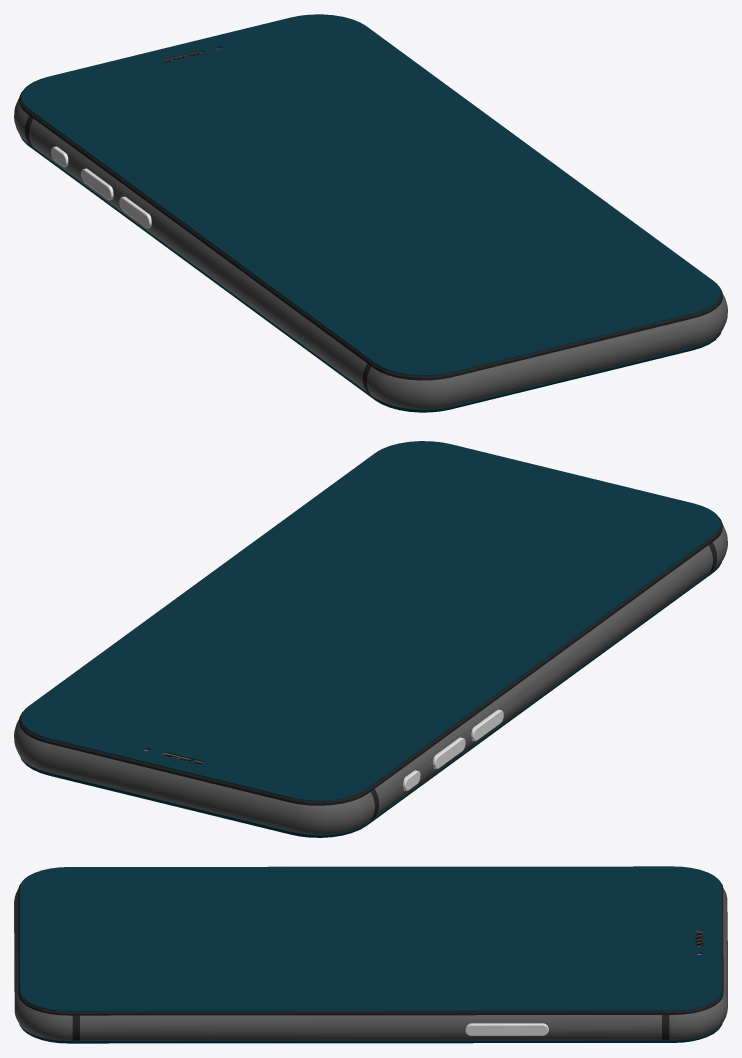
File: iPhone 11 Pro.glb
The picture shows the model from 3 angles, top to bottom: view 1: azimuth 30°, elevation 25°; view 2: azimuth 150°, elevation 25°; view 3: azimuth 270°, elevation 25°; orthographic projection. The views are drawn at different scales.
Visible parts, largest first — view 1: object.012, object.001, object.006, object.007; view 2: object.012, object.001, object.006, object.007; view 3: object.012, object.001, object.006, object.007, object.008.
Part boxes in pixels (x1,y1,x2,y2): object.012: [20, 14, 721, 412]; object.001: [14, 51, 727, 409]; object.006: [19, 91, 722, 380]; object.007: [51, 146, 151, 228]; object.012: [20, 441, 721, 837]; object.001: [14, 525, 727, 834]; object.006: [19, 518, 722, 805]; object.007: [403, 709, 503, 790]; object.012: [19, 866, 723, 1043]; object.001: [14, 888, 727, 1040]; object.006: [18, 880, 723, 1015]; object.007: [465, 1023, 548, 1035]; object.008: [72, 1015, 669, 1040].
Size of the model in its own units: 0.074 by 0.00782 by 0.1477.
15 materials, 3 textured.
